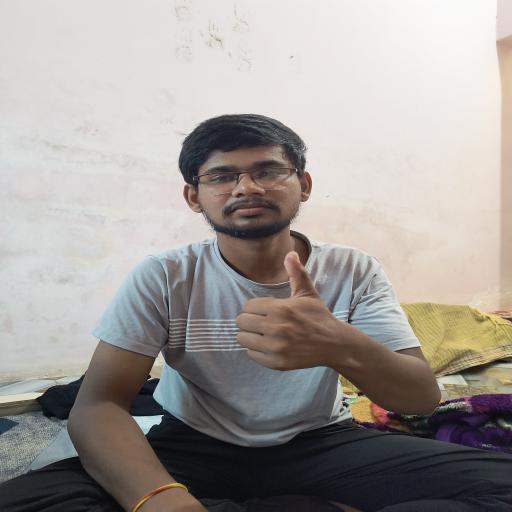Good Morning: (222, 245, 366, 388)
